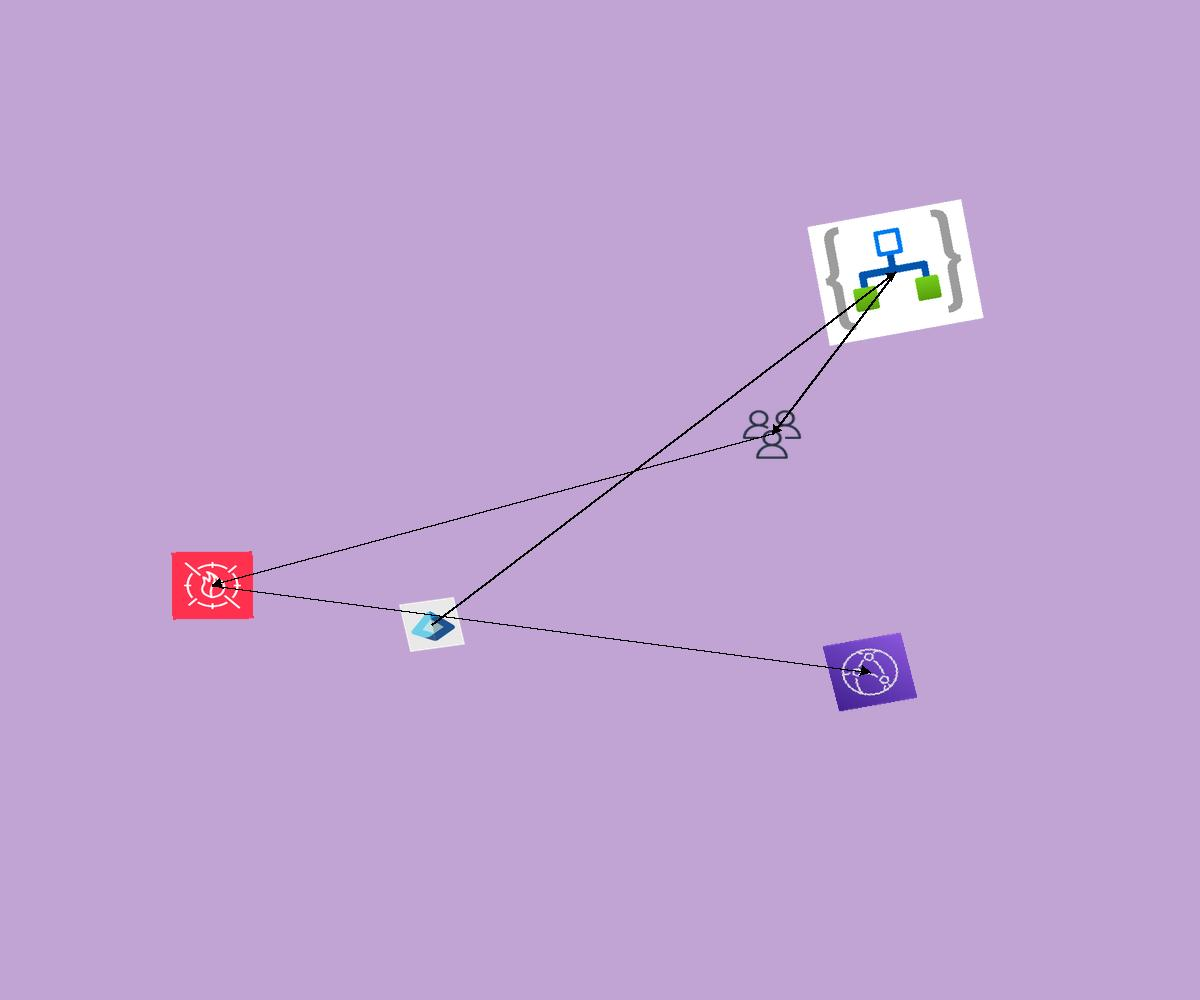AWS-CloudFront: (822, 632, 918, 712)
AWS-Res_Users: (739, 407, 805, 462)
AWS-WAF: (171, 551, 254, 620)
Azure_integration-204-Logic-Apps: (807, 199, 984, 346)
Azure_microsoft_entra: (399, 597, 465, 652)
